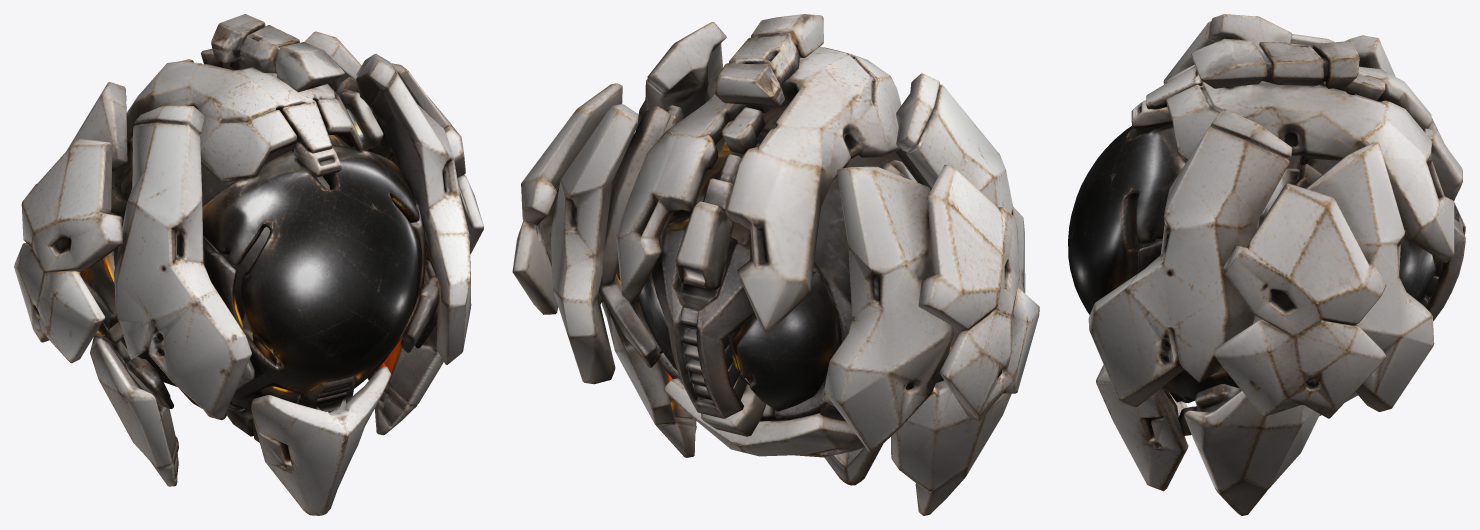
Rendered from head.fbx.fbx.
3 views of the same model, side by side, from view 1: azimuth 30°, elevation 25°; view 2: azimuth 150°, elevation 25°; view 3: azimuth 270°, elevation 25° (orthographic). The views are drawn at different scales.
Parts seen in each view (by area): view 1: head; view 2: head; view 3: head.
Boxes of the visible parts, x1=… form: head: x1=14, y1=14, x2=483, y2=515; head: x1=512, y1=14, x2=1039, y2=515; head: x1=1068, y1=14, x2=1465, y2=515.
Bounding box in the file's own units: 1 × 0.9961 × 0.786.
Materials: 1 (1 with a texture image).
